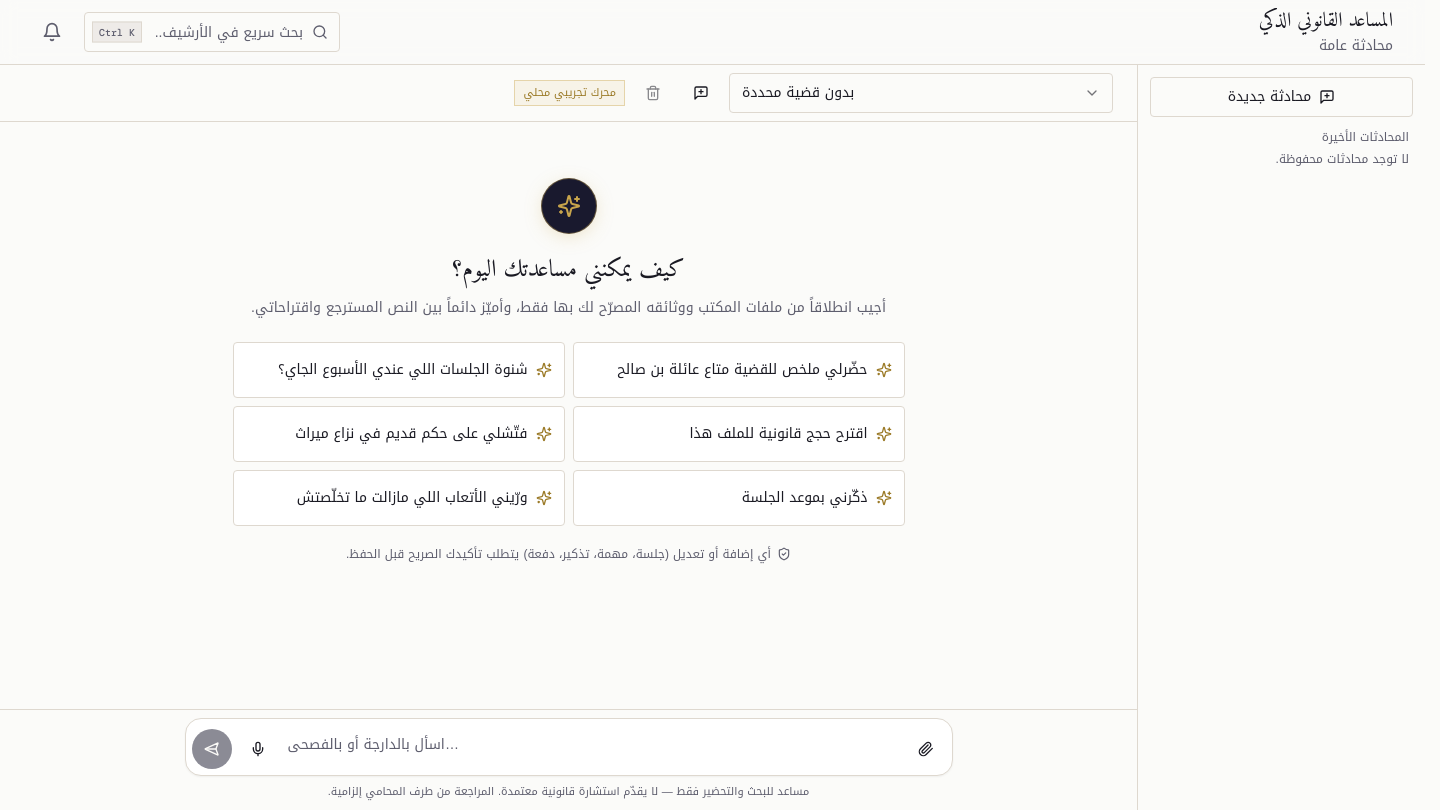
it: assistant conversation › cancelling a preview saves nothing
The image size is (1440, 810).
In the text box named "اكتب رسالتك للمساعد": (592, 747) [284,725,900,769], type "اعمل تذكير باش نكلّم الحريف نهار الجمعة"
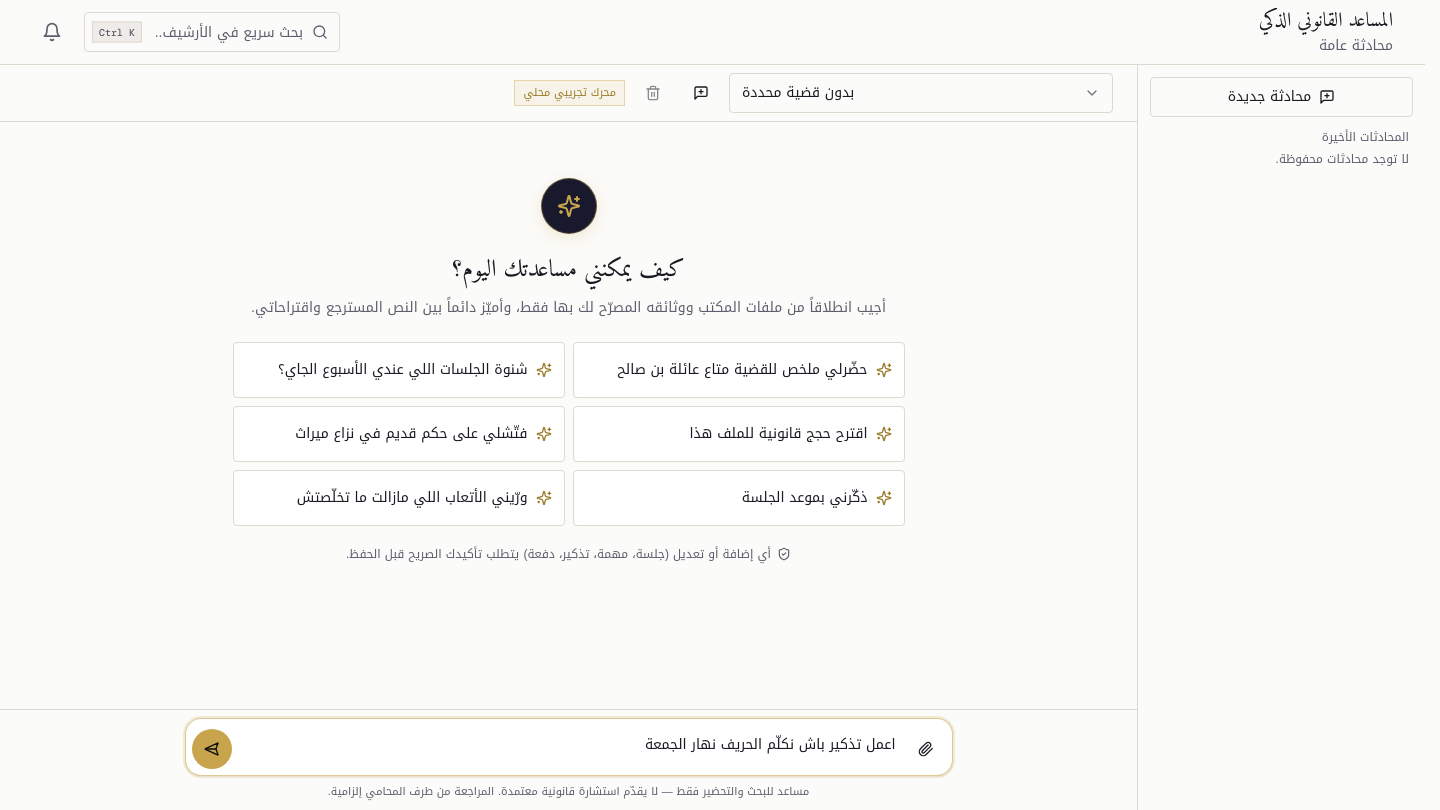
Click the button named "إرسال": (212, 749) [192,729,232,769]
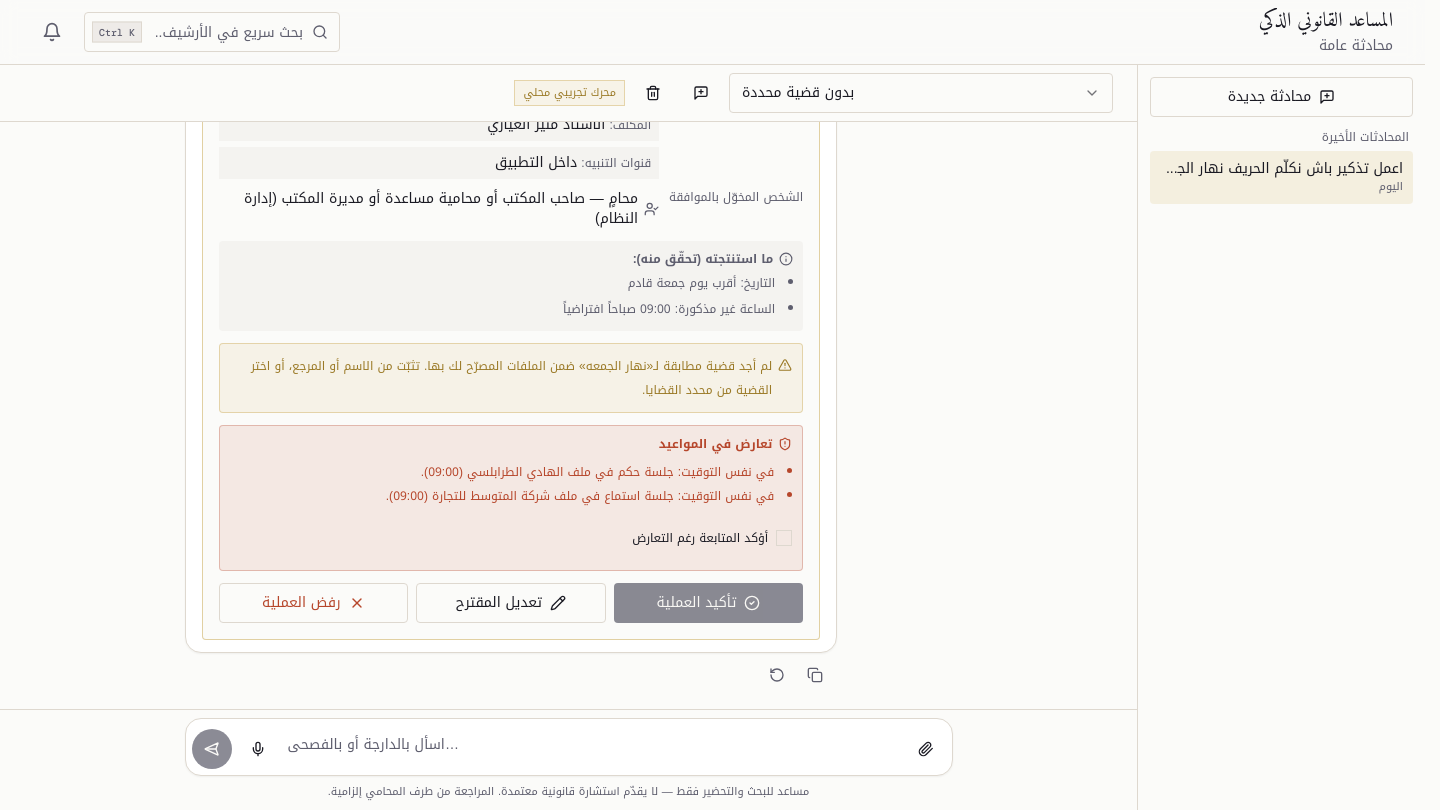
Click the button "رفض العملية": (313, 603) [218,583,408,623]
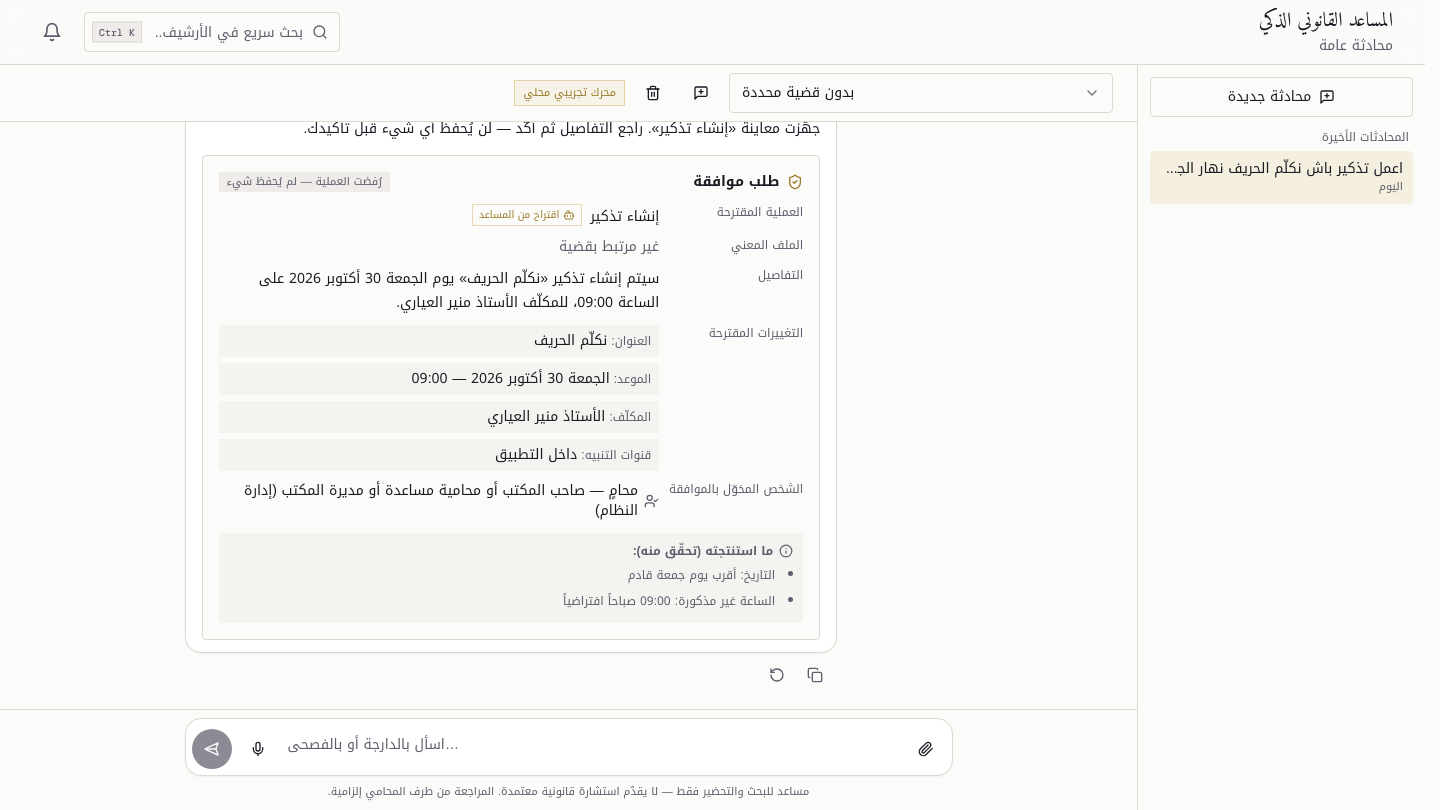
Check: the text "رُفضت العملية — لم يُحفظ شيء" is shown, box [218,172,390,192]
